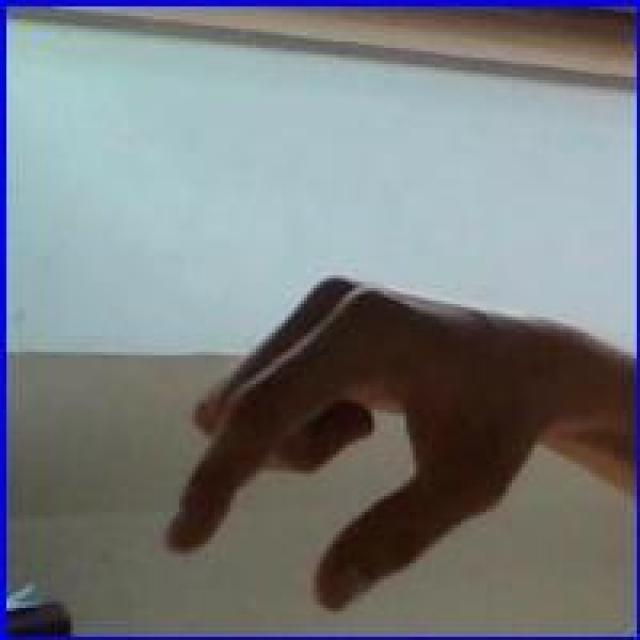Q: (154, 261, 550, 619)
